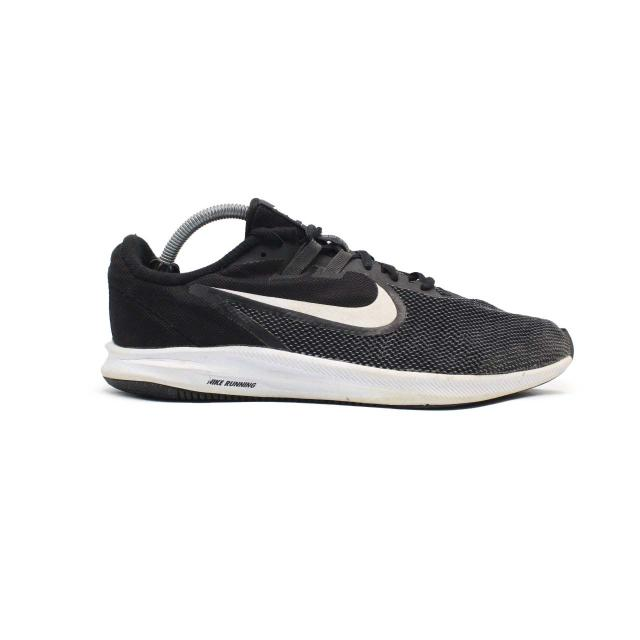heel: (107, 237, 160, 348)
midsole: (100, 339, 571, 409)
uppersole: (157, 197, 571, 376)
